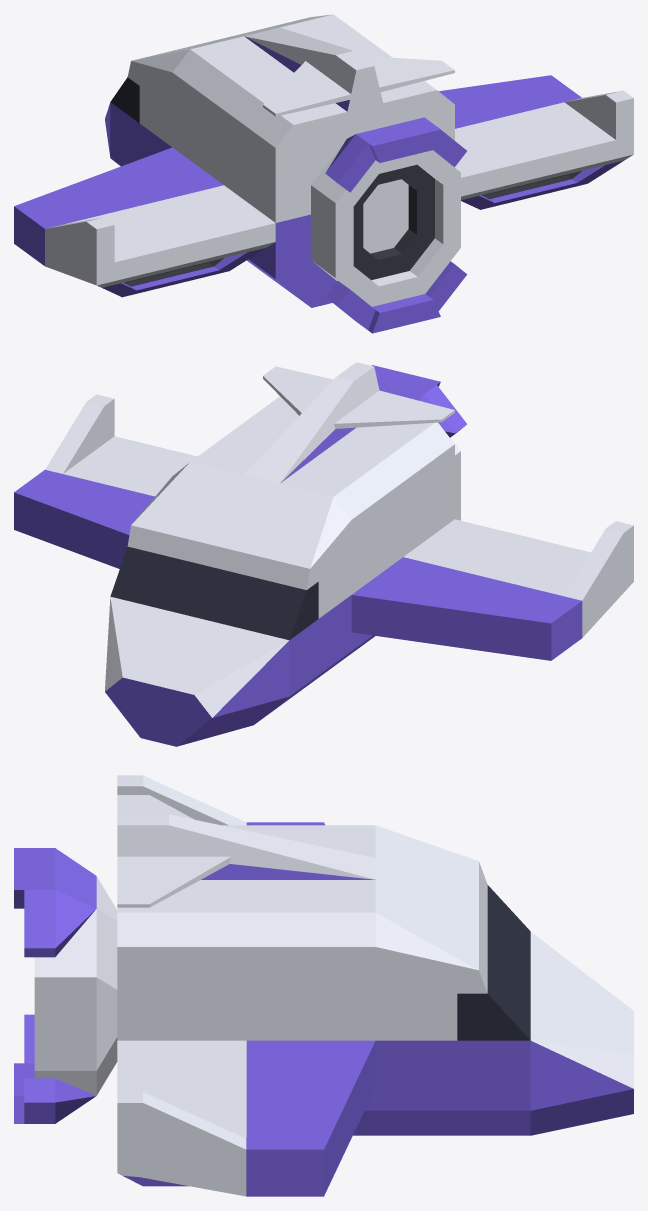
The picture shows the model from 3 angles, top to bottom: view 1: azimuth 30°, elevation 25°; view 2: azimuth 150°, elevation 25°; view 3: azimuth 270°, elevation 25°; orthographic projection. The views are drawn at different scales.
Visible parts, largest first — view 1: mergedBlocks; view 2: mergedBlocks; view 3: mergedBlocks.
Boxes of the visible parts, x1=… form: mergedBlocks: x1=14, y1=14, x2=633, y2=333; mergedBlocks: x1=14, y1=362, x2=633, y2=746; mergedBlocks: x1=14, y1=775, x2=633, y2=1196.
Size of the model in its own units: 30 by 12.1 by 24.
